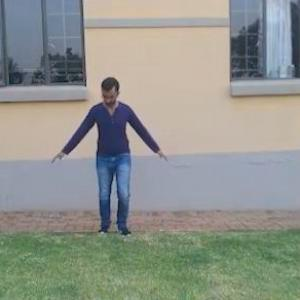land: (48, 74, 174, 239)
